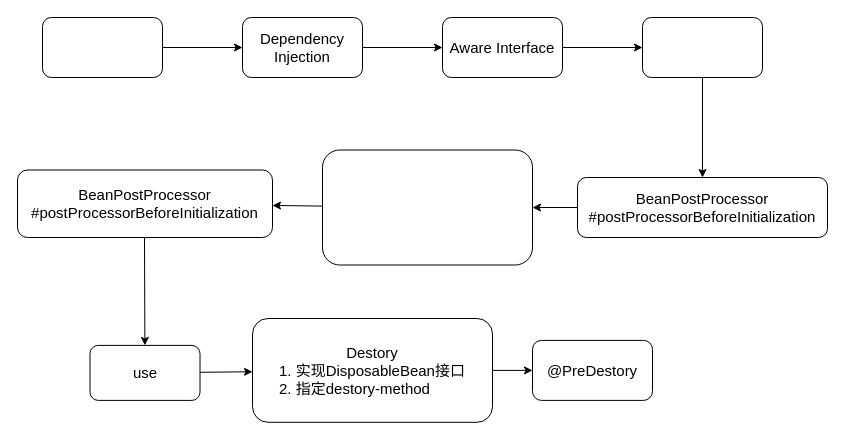
The diagram is 845 pixels wide and 440 high, and some of its shapes have lost their labels. Each missing label, with the box of its shape:
@PostConstruct: (642, 16, 762, 78)
Constructor: (42, 16, 162, 78)
Initialization 1. 实现InitializingBean接口 2. 指定Init-method: (322, 149, 532, 265)
